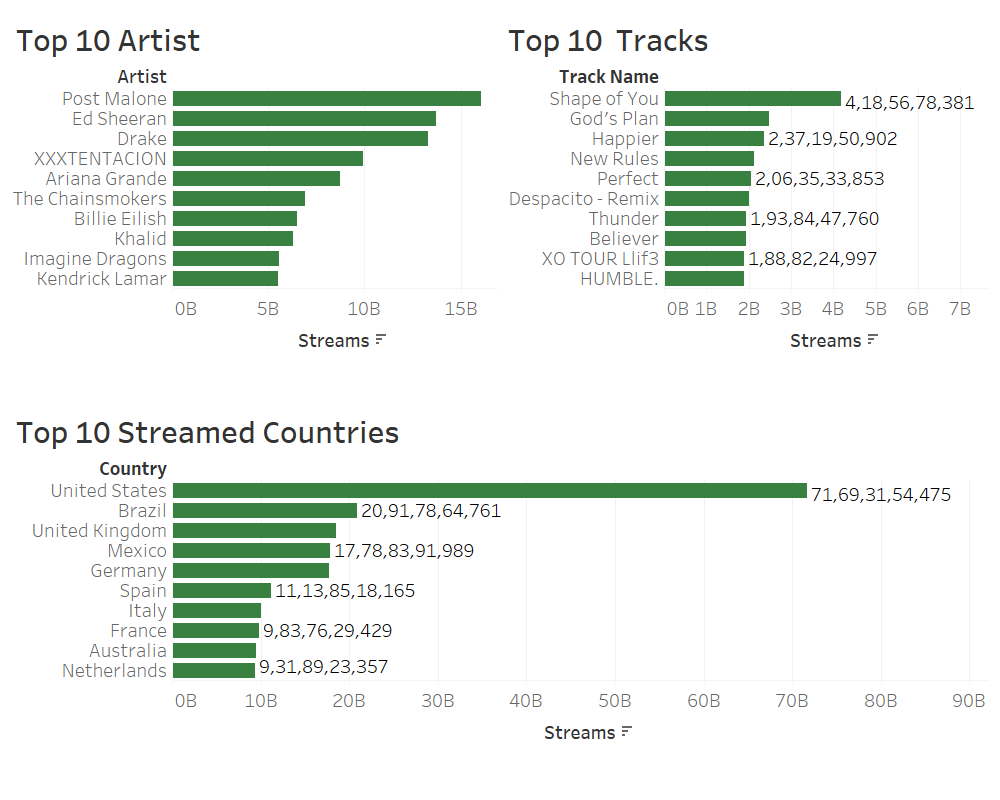

This screenshot's page, from the dashboard's own definition file:
{"tool":"tableau","page":{"name":"Top 10 dashboard","canvas":[1000,800],"ordinal":1},"visuals":[{"type":"worksheet","title":"Top 10 Artist","mark":"Automatic","rows":["Artist"],"cols":["Streams"],"box":[8,8,492,392]},{"type":"worksheet","title":"Top 10 Tracks","mark":"Automatic","rows":["Track Name"],"cols":["Streams"],"box":[500,8,492,392]},{"type":"worksheet","title":"Top 10 Countries","mark":"Automatic","rows":["Country"],"cols":["Streams"],"box":[8,400,984,392]}]}

Visuals, with their boxes in screenshot pixels (x1, y1, x2, y2), scaled from the page's 1000x800 canvas onto the 1000x800 screenshot:
"Top 10 Artist" worksheet: <bbox>8, 8, 500, 400</bbox>
"Top 10 Tracks" worksheet: <bbox>500, 8, 992, 400</bbox>
"Top 10 Countries" worksheet: <bbox>8, 400, 992, 792</bbox>
